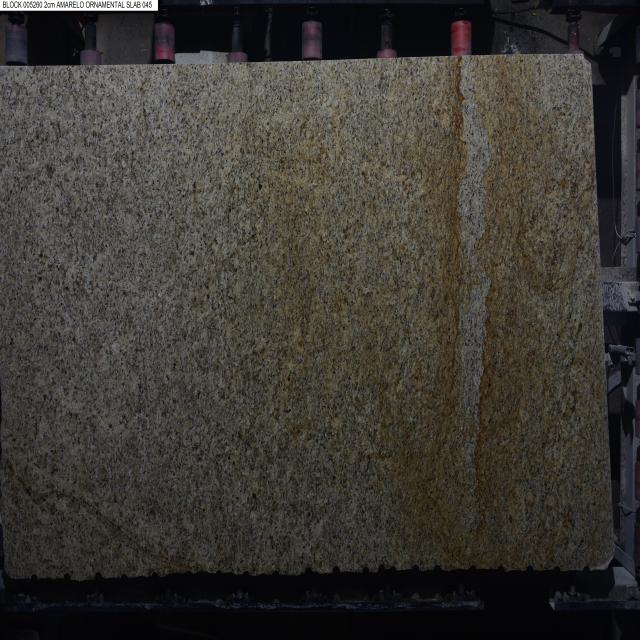chapa: (0, 56, 612, 579)
veio: (329, 562, 342, 577), (360, 564, 370, 576)
